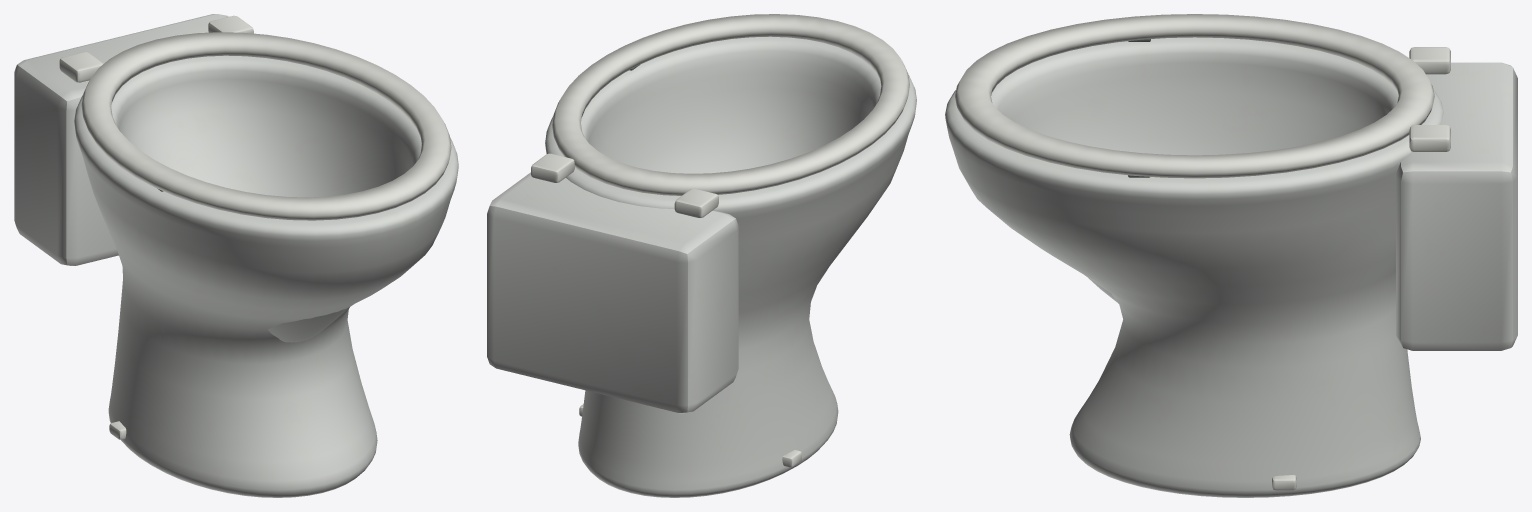
The model's file is vaso_sanitario_realista.glb.
3 renders of one model, left to right at view 1: azimuth 30°, elevation 25°; view 2: azimuth 150°, elevation 25°; view 3: azimuth 270°, elevation 25°, orthographic. The views are drawn at different scales.
Parts seen in each view (by area): view 1: Louca, Assento; view 2: Louca, Assento; view 3: Louca, Assento.
Part boxes in pixels (box(x1,y1,x2,y2)): Louca: box(14, 14, 458, 497); Assento: box(59, 15, 451, 220); Louca: box(487, 36, 916, 497); Assento: box(531, 14, 909, 218); Louca: box(945, 37, 1517, 497); Assento: box(955, 14, 1450, 178).
Bounding box in the file's own units: 0.41 × 0.425 × 0.62.
1 material, 1 textured.
